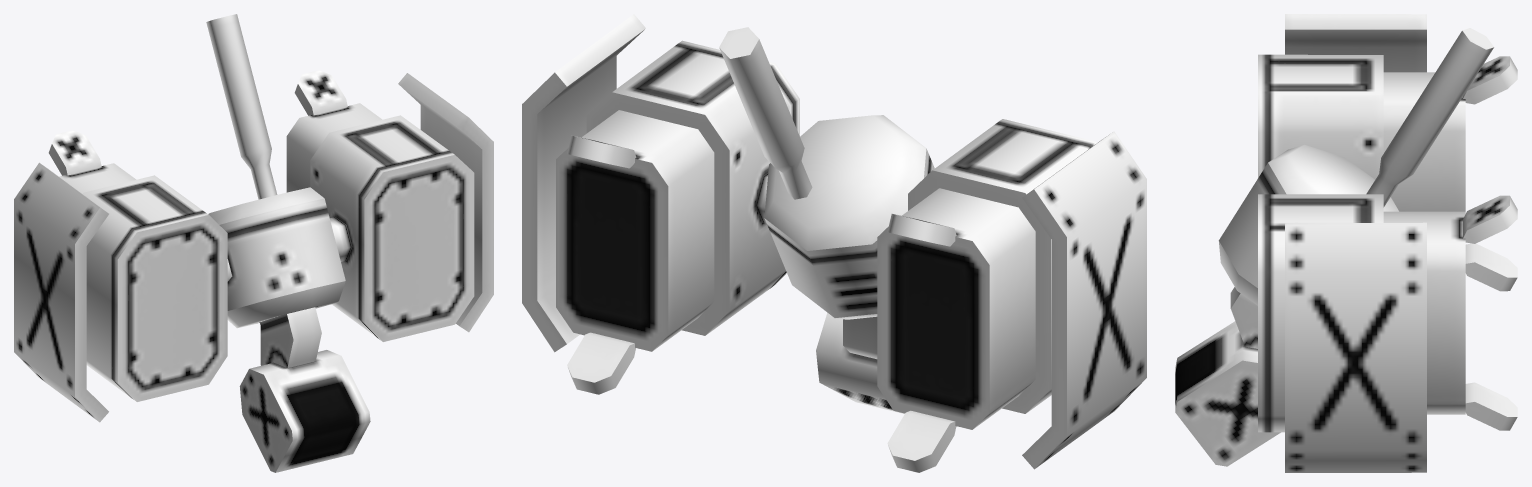
The model's file is Enemy_Scout.FBX.
The picture shows the model from 3 angles, left to right: view 1: azimuth 30°, elevation 25°; view 2: azimuth 150°, elevation 25°; view 3: azimuth 270°, elevation 25°; orthographic projection. The views are drawn at different scales.
Visible parts, largest first — view 1: Enemy_Scout, Enemy_Scout_Up_Armor, Enemy_Scout_Up_Gun, Enemy_Scout_Up_Speed; view 2: Enemy_Scout, Enemy_Scout_Up_Armor, Enemy_Scout_Up_Speed, Enemy_Scout_Up_Gun; view 3: Enemy_Scout, Enemy_Scout_Up_Armor, Enemy_Scout_Up_Speed, Enemy_Scout_Up_Gun.
Part boxes in pixels (x1=…): Enemy_Scout: x1=59, y1=103, x2=474, y2=472; Enemy_Scout_Up_Armor: x1=14, y1=73, x2=493, y2=422; Enemy_Scout_Up_Gun: x1=206, y1=14, x2=277, y2=199; Enemy_Scout_Up_Speed: x1=48, y1=70, x2=347, y2=175; Enemy_Scout: x1=556, y1=40, x2=1096, y2=429; Enemy_Scout_Up_Armor: x1=522, y1=14, x2=1146, y2=469; Enemy_Scout_Up_Speed: x1=567, y1=135, x2=956, y2=472; Enemy_Scout_Up_Gun: x1=719, y1=27, x2=812, y2=199; Enemy_Scout: x1=1175, y1=54, x2=1465, y2=466; Enemy_Scout_Up_Armor: x1=1285, y1=14, x2=1426, y2=472; Enemy_Scout_Up_Speed: x1=1463, y1=56, x2=1517, y2=430; Enemy_Scout_Up_Gun: x1=1366, y1=28, x2=1494, y2=207.
Bounding box in the file's own units: 127 × 106 × 77.57.
